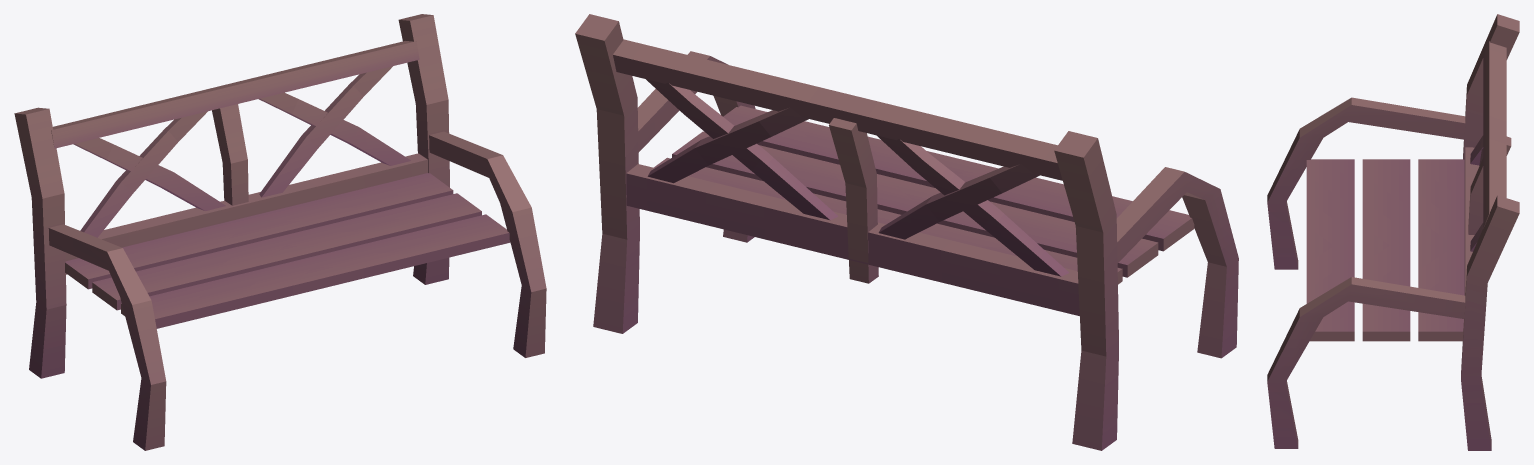
File: bench.fbx
3 views of the same model, side by side, from view 1: azimuth 30°, elevation 25°; view 2: azimuth 150°, elevation 25°; view 3: azimuth 270°, elevation 25° (orthographic). The views are drawn at different scales.
Visible parts, largest first — view 1: bench; view 2: bench; view 3: bench.
Part boxes in pixels (left/top/right/bottom): bench: left=14, top=14, right=546, bottom=450; bench: left=575, top=14, right=1238, bottom=450; bench: left=1267, top=14, right=1519, bottom=450.
Bounding box in the file's own units: 375 × 222 × 208.
Materials: 1 (1 with a texture image).
